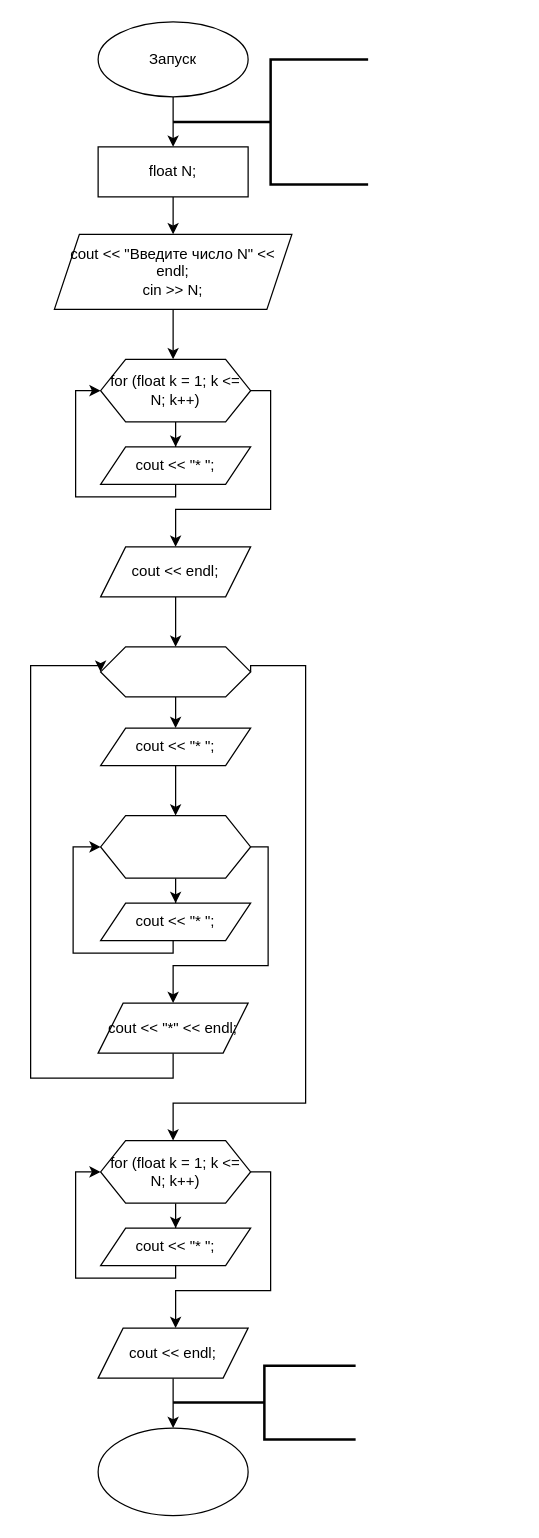
Some shapes in this 539 by 1538 pixel diagram are drawn without their labels. Each missing label, with the box of its shape:
#include using namespace std; int main() {: (171, 58, 369, 185)
for (float i = 1; i <= N; i++): (99, 646, 251, 697)
for (float j = 1; j <= N; j++): (99, 814, 251, 878)
return 0; }: (171, 1364, 356, 1440)
Конец: (97, 1427, 248, 1516)
